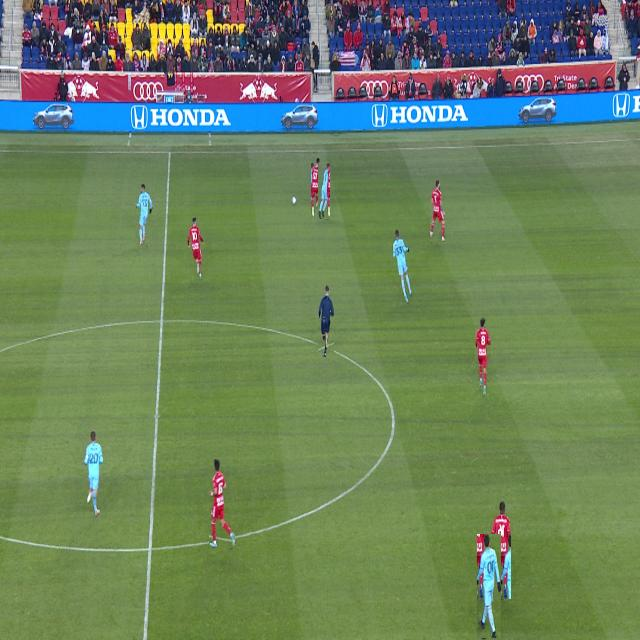football: (292, 196, 296, 204)
player: (477, 535, 501, 638), (210, 460, 235, 548), (491, 502, 511, 599), (84, 431, 103, 517), (392, 229, 412, 303), (476, 317, 490, 396), (187, 217, 204, 279), (430, 180, 445, 242), (137, 185, 152, 245), (318, 163, 330, 219), (311, 158, 321, 217), (494, 569, 499, 599)
referee: (318, 285, 334, 358)
